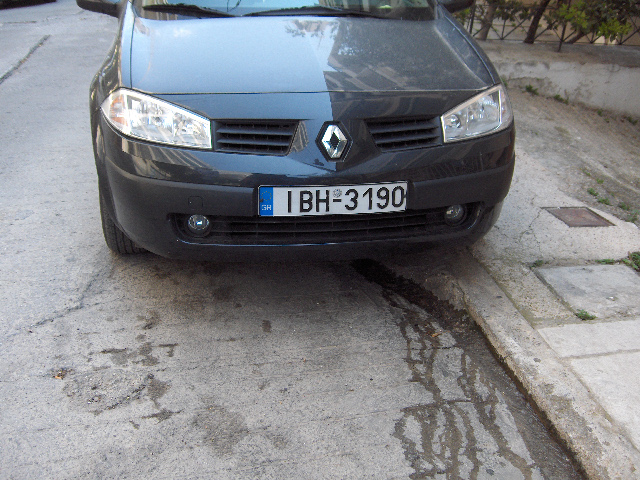licenseplate: (256, 180, 407, 217)
